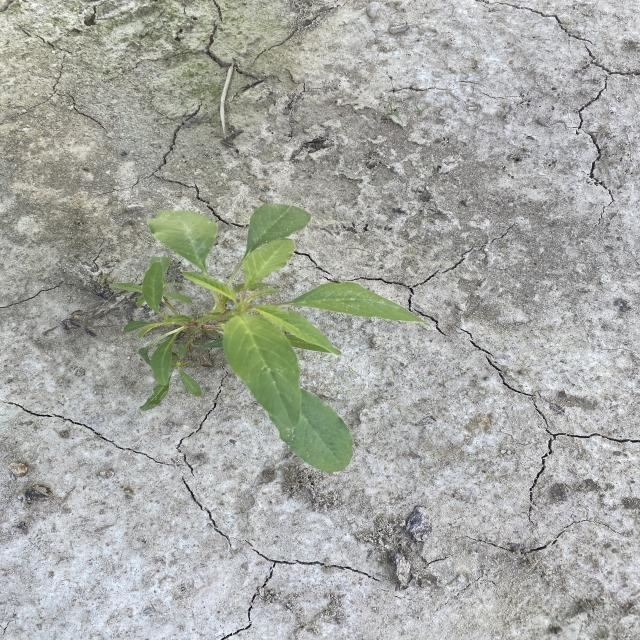Waterhemp: (107, 202, 428, 476)
